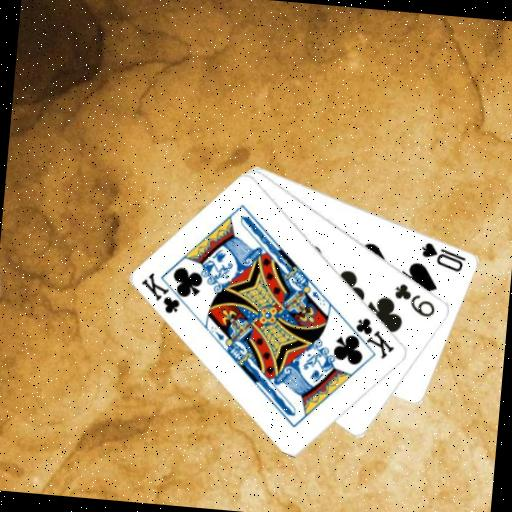10S: (417, 239, 470, 275)
9C: (390, 280, 440, 320)
KC: (341, 313, 400, 362), (136, 269, 195, 318)
